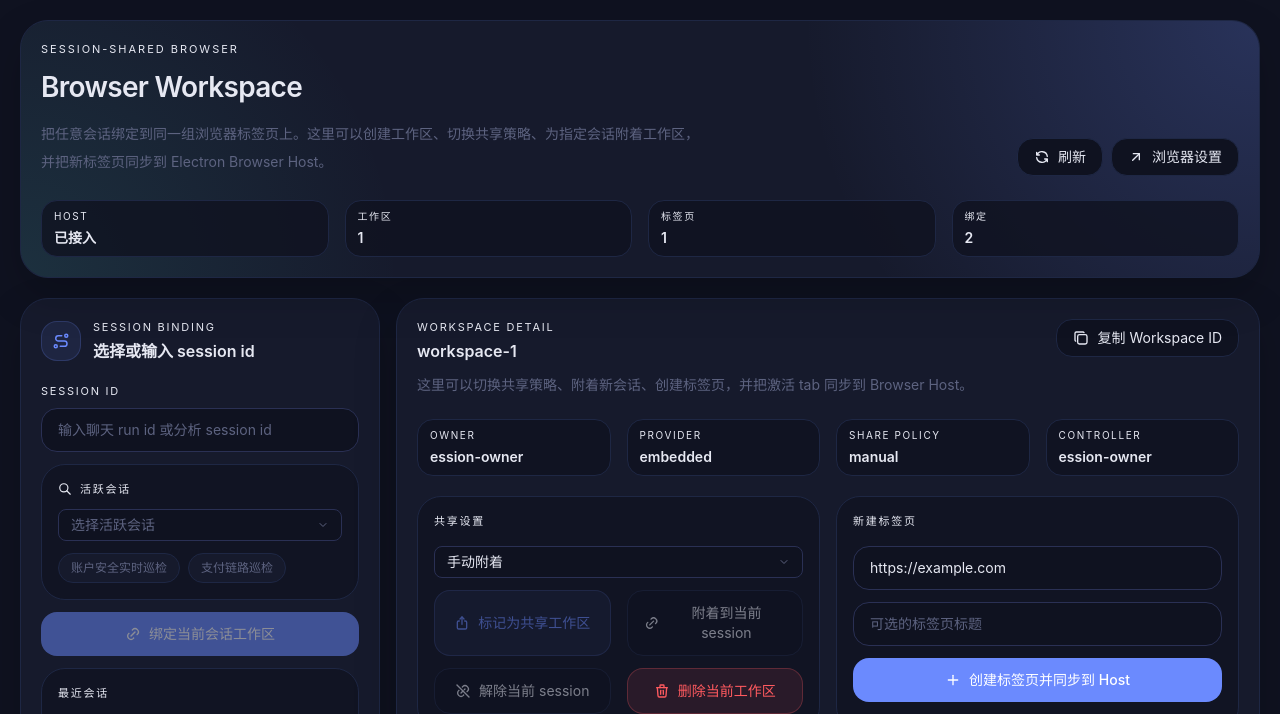
Test: BrowserWorkspacePage › filters active sessions and lets the user choose one into the session id input
Expected: the heading "Browser Workspace" is shown, left=41, top=70, right=302, bottom=104
Expected: the text "活跃会话" is shown, left=80, top=480, right=131, bottom=497
Step 1. Type "实时" into the field labelled "Session ID" → (200, 430), box left=41, top=408, right=359, bottom=452
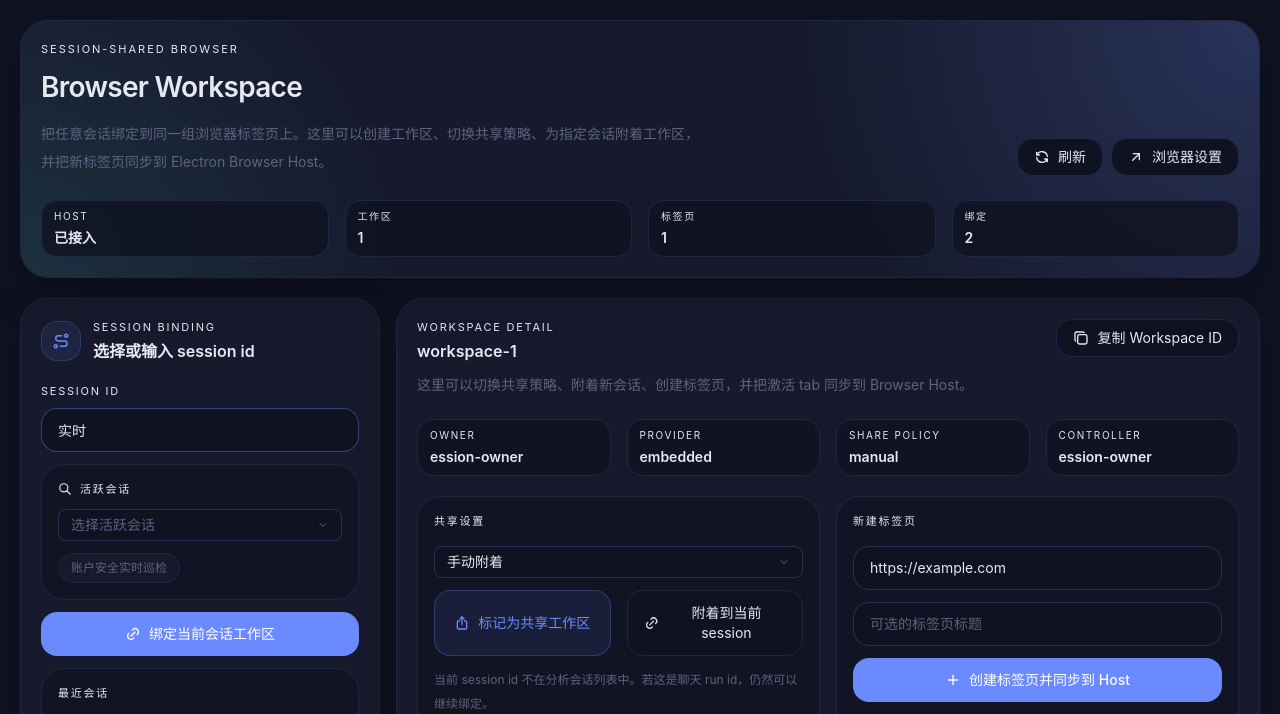
Expected: the button "支付链路巡检" is not shown
Step 2. Click the 1st button "账户安全实时巡检" → (119, 568), box left=58, top=553, right=180, bottom=583
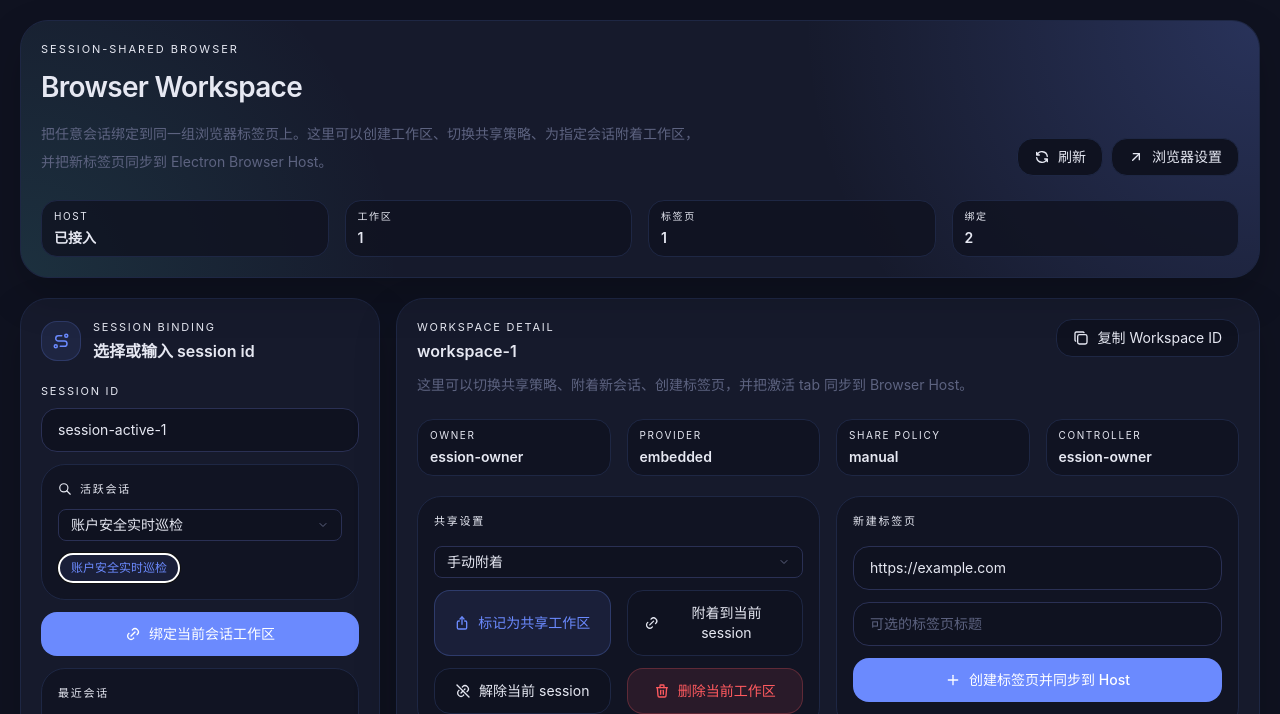
Expected: the field labelled "Session ID" holds "session-active-1", left=41, top=408, right=359, bottom=452
